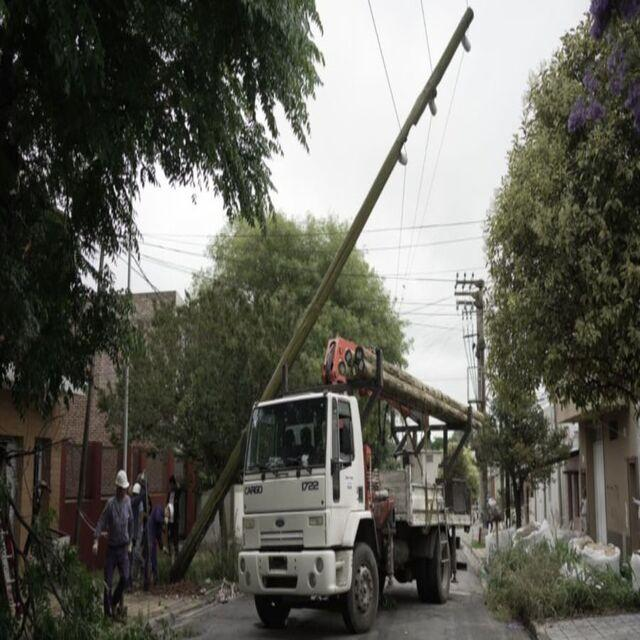Inclined Pole: (259, 5, 474, 402)
